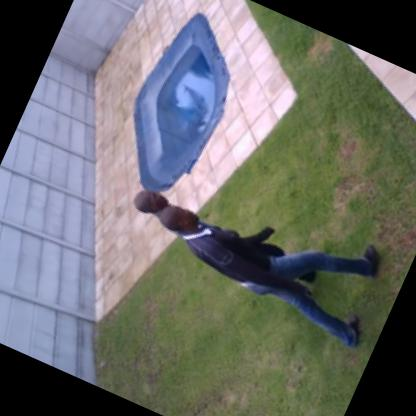Human Body: (137, 155, 402, 358), (122, 170, 333, 306)
